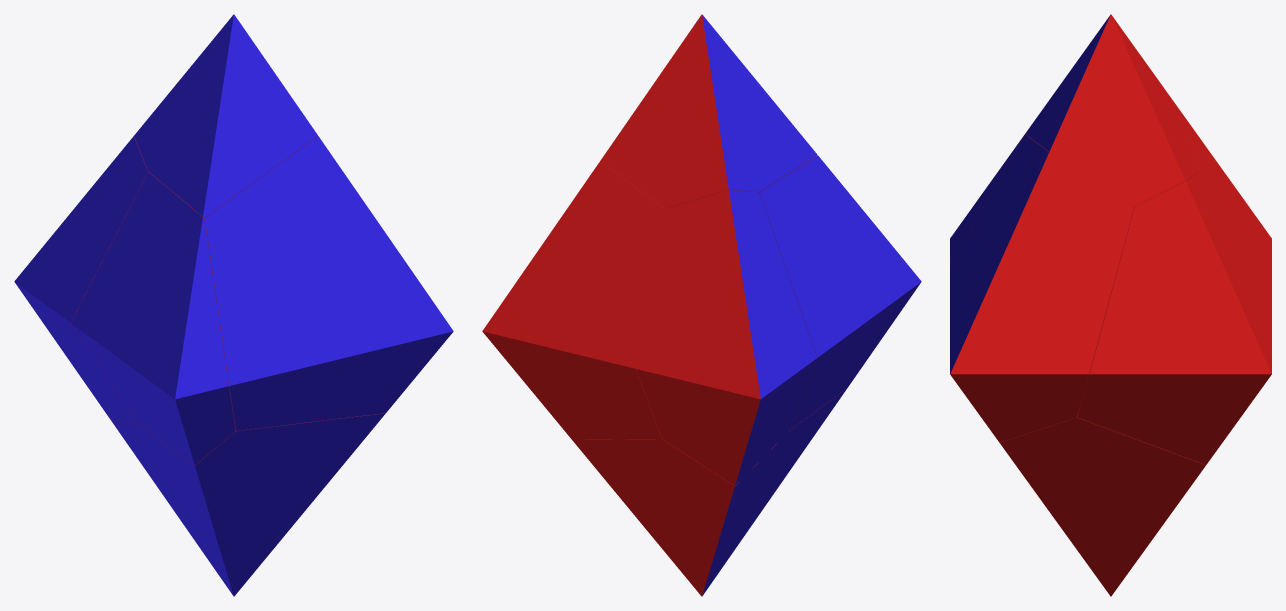
Rendered from Octahedaral Crushed.fbx.
The picture shows the model from 3 angles, left to right: view 1: azimuth 30°, elevation 25°; view 2: azimuth 150°, elevation 25°; view 3: azimuth 270°, elevation 25°; orthographic projection.
Parts seen in each view (by area): view 1: Octahedaral_cell.005, Octahedaral_cell.002, Octahedaral_cell, Octahedaral_cell.001, Octahedaral_cell.003; view 2: Octahedaral_cell.003, Octahedaral_cell.004, Octahedaral_cell.001, Octahedaral_cell.002, Octahedaral_cell; view 3: Octahedaral_cell.005, Octahedaral_cell.004, Octahedaral_cell, Octahedaral_cell.001, Octahedaral_cell.003, Octahedaral_cell.002.
Part boxes in pixels (<box>): Octahedaral_cell.005: <box>204,136,453,430</box>; Octahedaral_cell.002: <box>71,172,235,465</box>; Octahedaral_cell: <box>111,398,385,596</box>; Octahedaral_cell.001: <box>134,14,317,217</box>; Octahedaral_cell.003: <box>14,136,149,423</box>; Octahedaral_cell.003: <box>636,190,817,485</box>; Octahedaral_cell.004: <box>482,161,664,439</box>; Octahedaral_cell.001: <box>600,14,817,208</box>; Octahedaral_cell.002: <box>759,155,921,429</box>; Octahedaral_cell: <box>572,388,847,596</box>; Octahedaral_cell.005: <box>950,134,1134,442</box>; Octahedaral_cell.004: <box>1077,172,1271,464</box>; Octahedaral_cell: <box>1000,412,1205,596</box>; Octahedaral_cell.001: <box>1025,14,1199,206</box>; Octahedaral_cell.003: <box>1184,117,1271,298</box>; Octahedaral_cell.002: <box>950,133,1026,264</box>.
Bounding box in the file's own units: 200 × 400 × 200.
